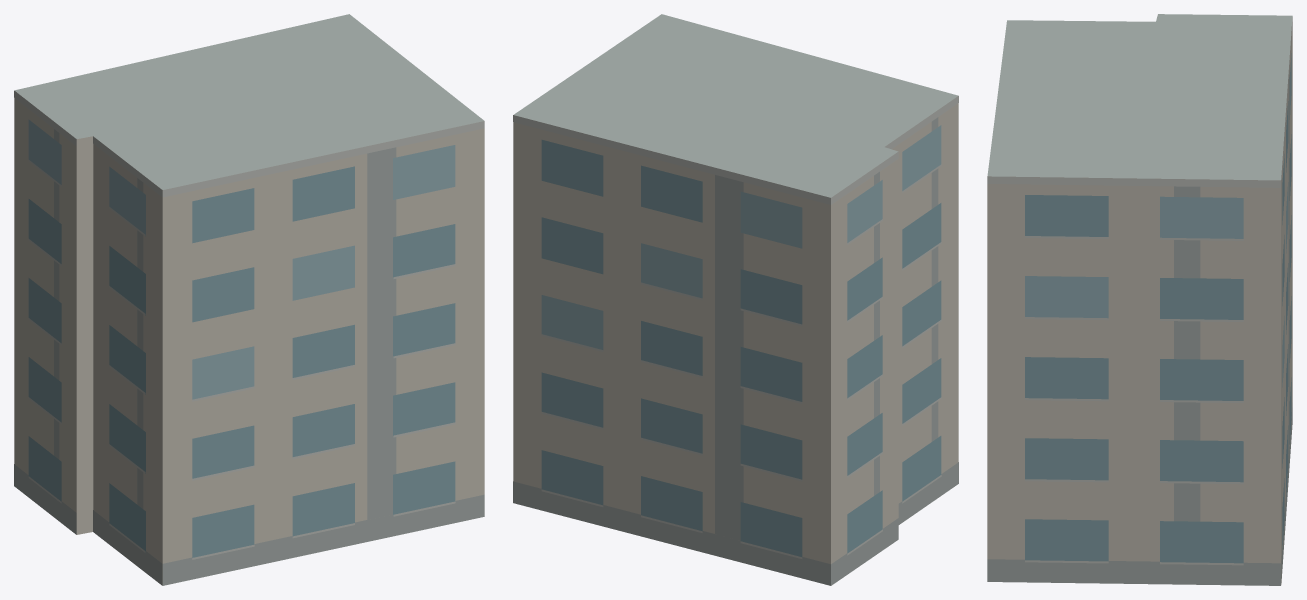
File: survey-upis-32699769.glb
The picture shows the model from 3 angles, left to right: view 1: azimuth 30°, elevation 25°; view 2: azimuth 150°, elevation 25°; view 3: azimuth 270°, elevation 25°; orthographic projection. The views are drawn at different scales.
Parts seen in each view (by area): view 1: survey-upis-32699769.tmp; view 2: survey-upis-32699769.tmp; view 3: survey-upis-32699769.tmp.
Boxes of the visible parts, left/top/right/bottom form: survey-upis-32699769.tmp: left=14, top=14, right=484, bottom=585; survey-upis-32699769.tmp: left=513, top=14, right=958, bottom=585; survey-upis-32699769.tmp: left=987, top=14, right=1292, bottom=585.
Bounding box in the file's own units: 11.63 × 13.2 × 9.02.
